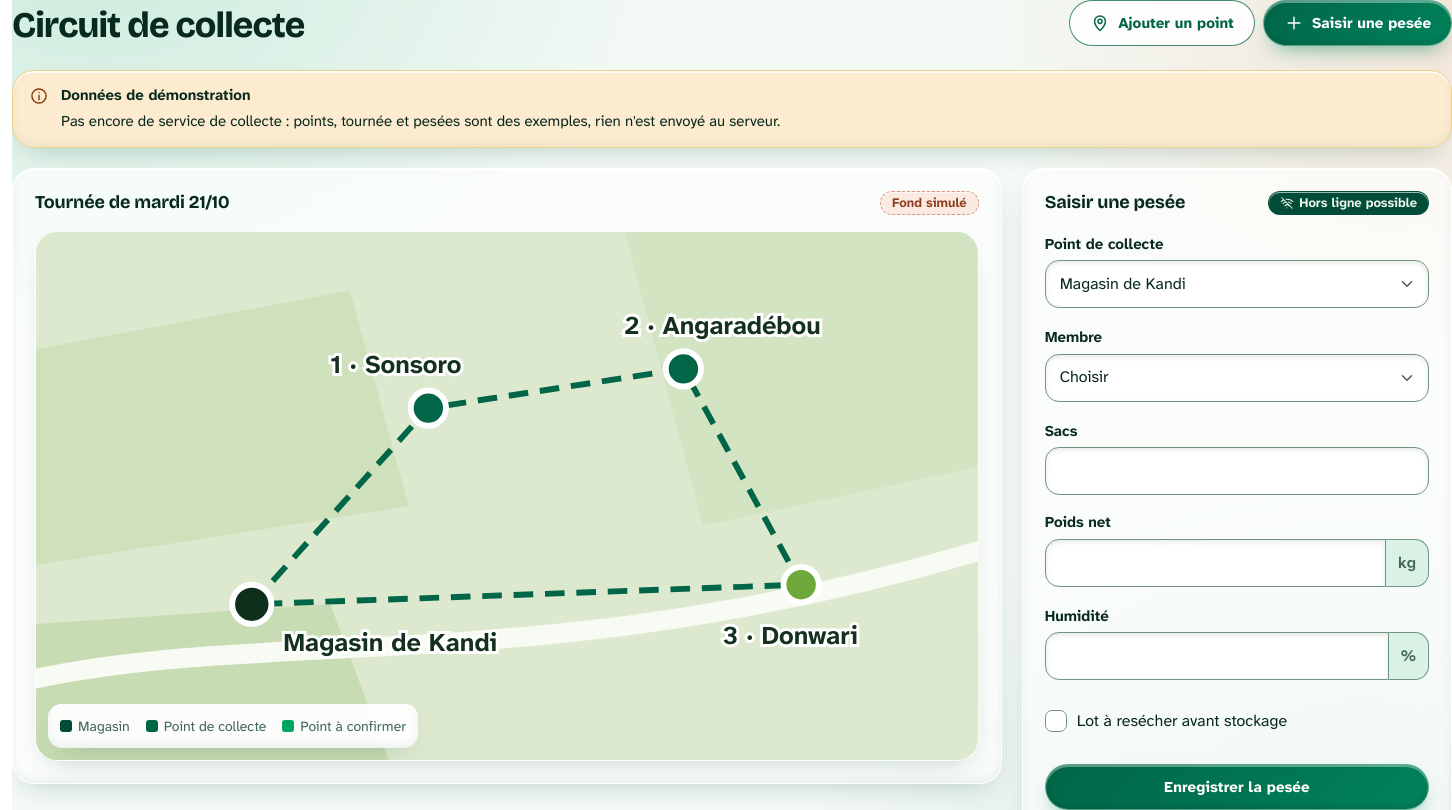
Test: Collecte › page /collecte : une pesée valide est gardée et annoncée en attente
Expected: the heading "Circuit de collecte" is shown, [12,4,304,47]
Select "Bio Gounou · ALI-KAN-01187" in the dropdown labelled "Membre" at coordinates (1237, 378), box [1045,354,1429,402]
Type "12" into the field labelled "Sacs".
click(1237, 471); type("12")  # box [1045,447,1429,495]
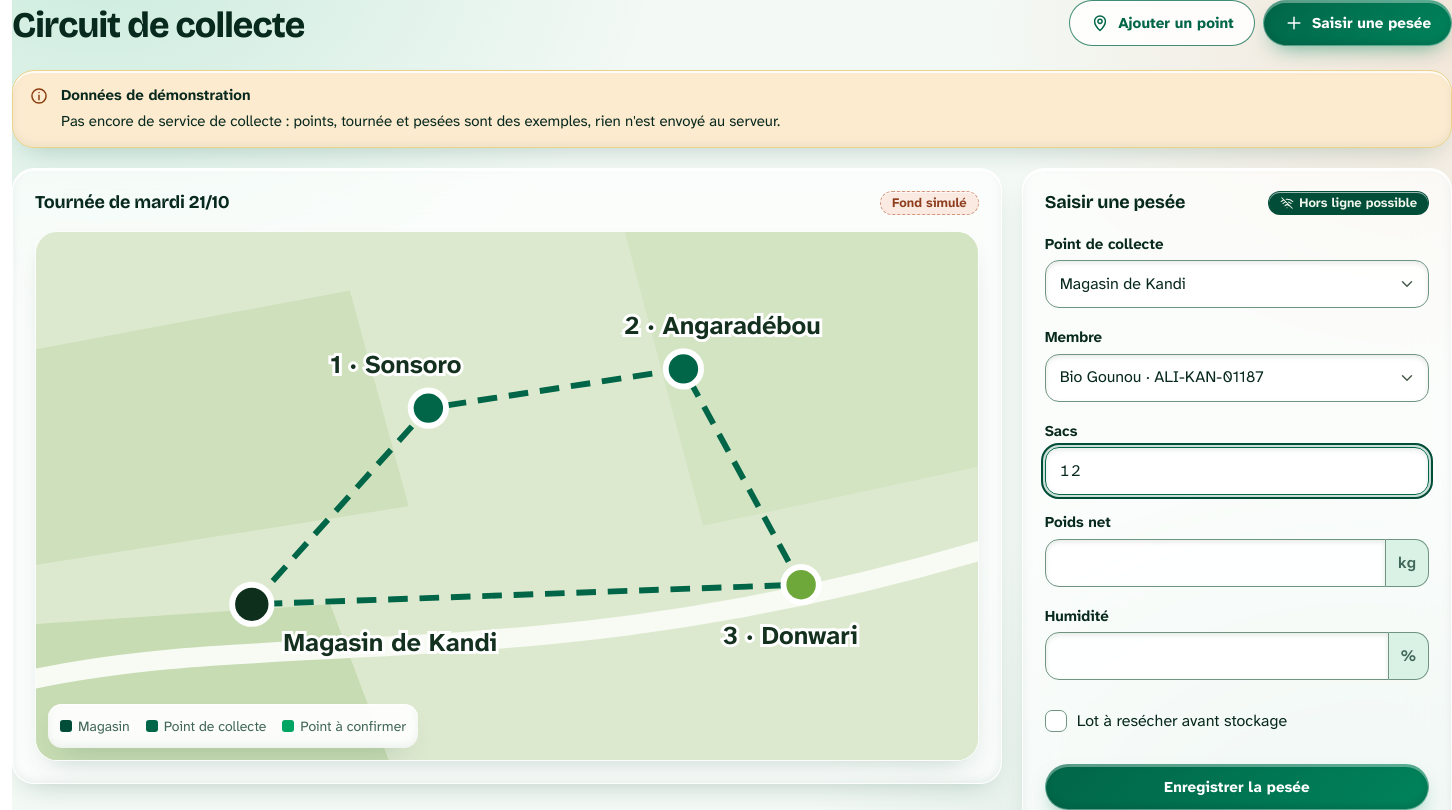
Type "1180" into the field labelled "Poids net".
click(1215, 562); type("1180")  # box [1045,538,1386,586]
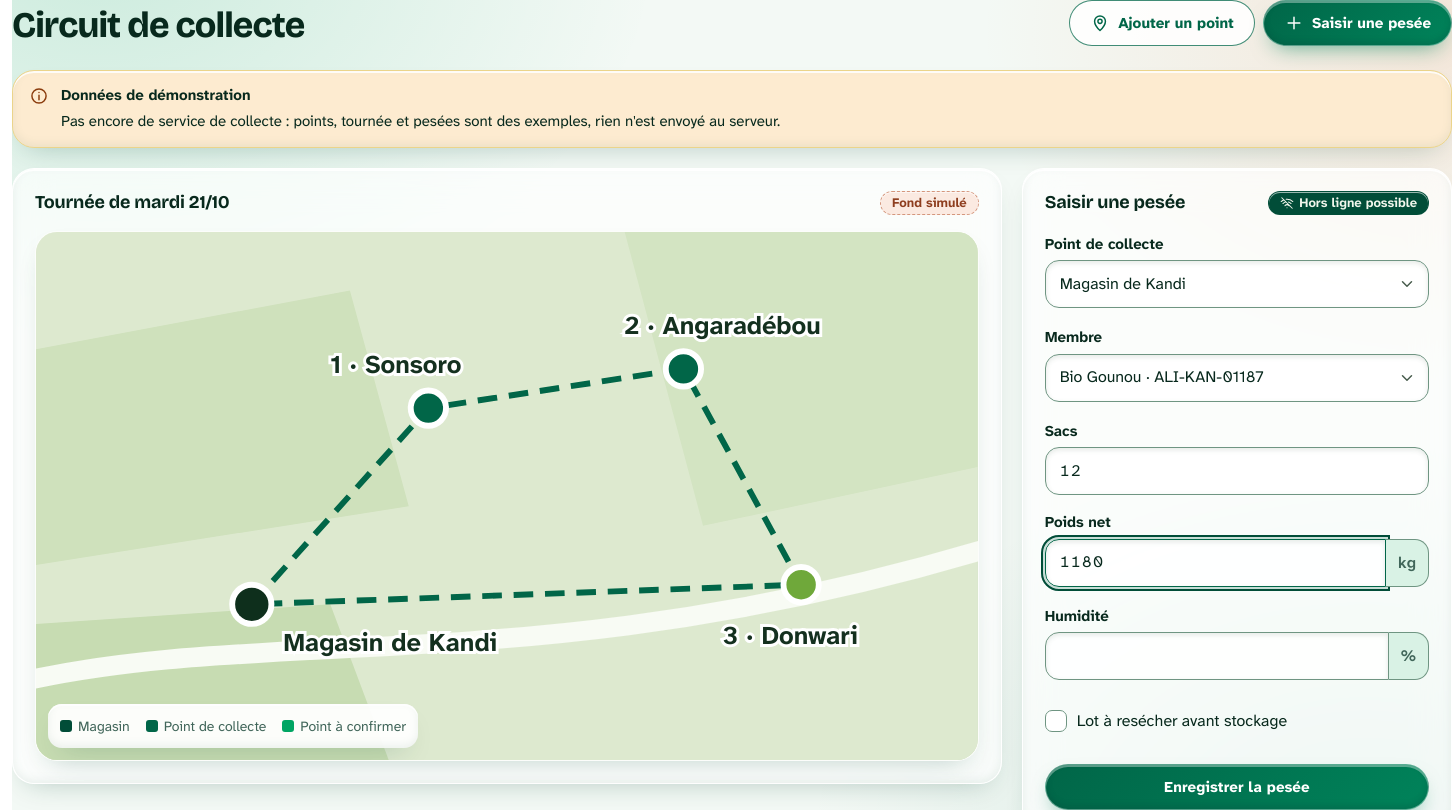
Type "16,5" into the field labelled "Humidité".
click(1217, 656); type("16,5")  # box [1045,632,1389,680]
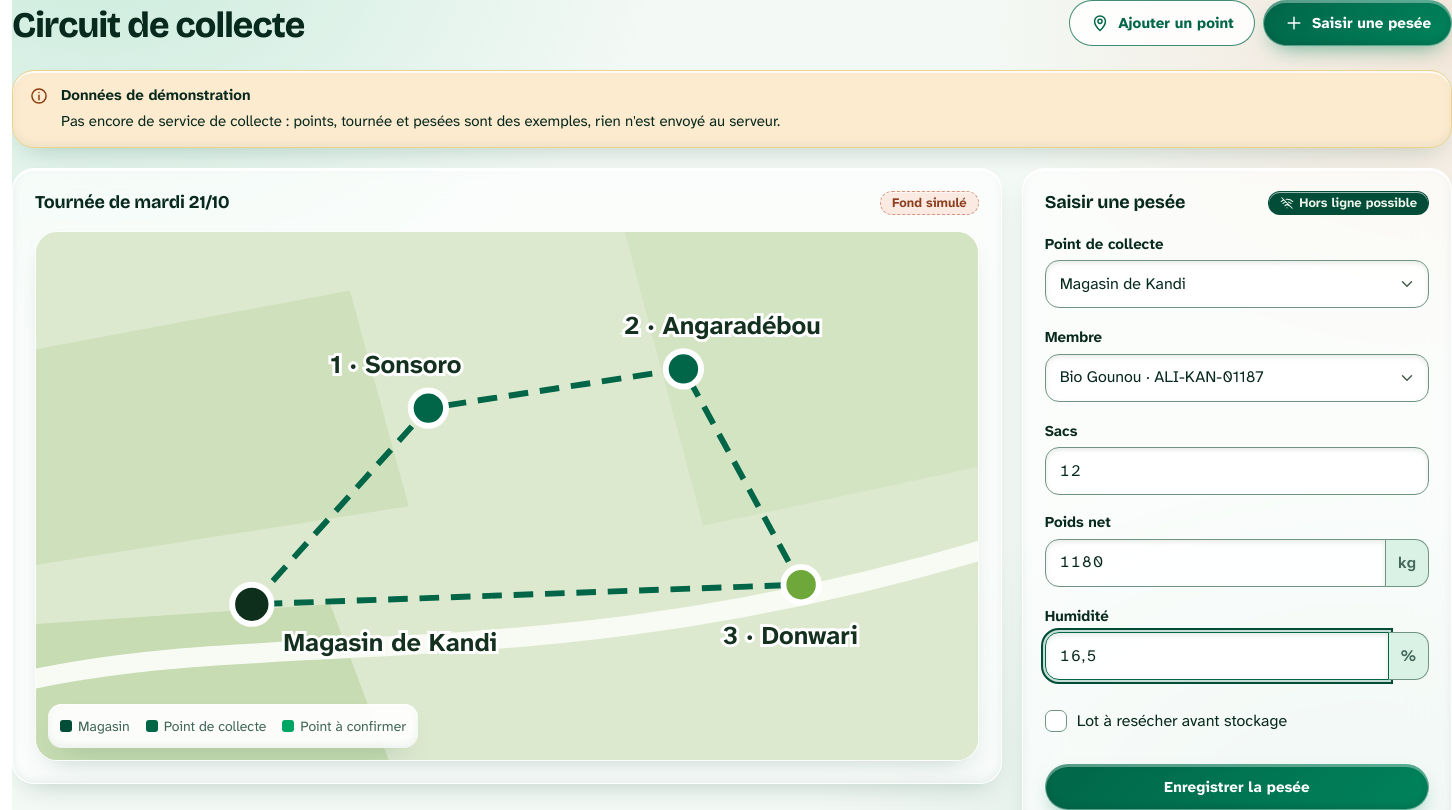
Click the button "Enregistrer la pesée".
click(1237, 787)  # box [1045,764,1429,809]
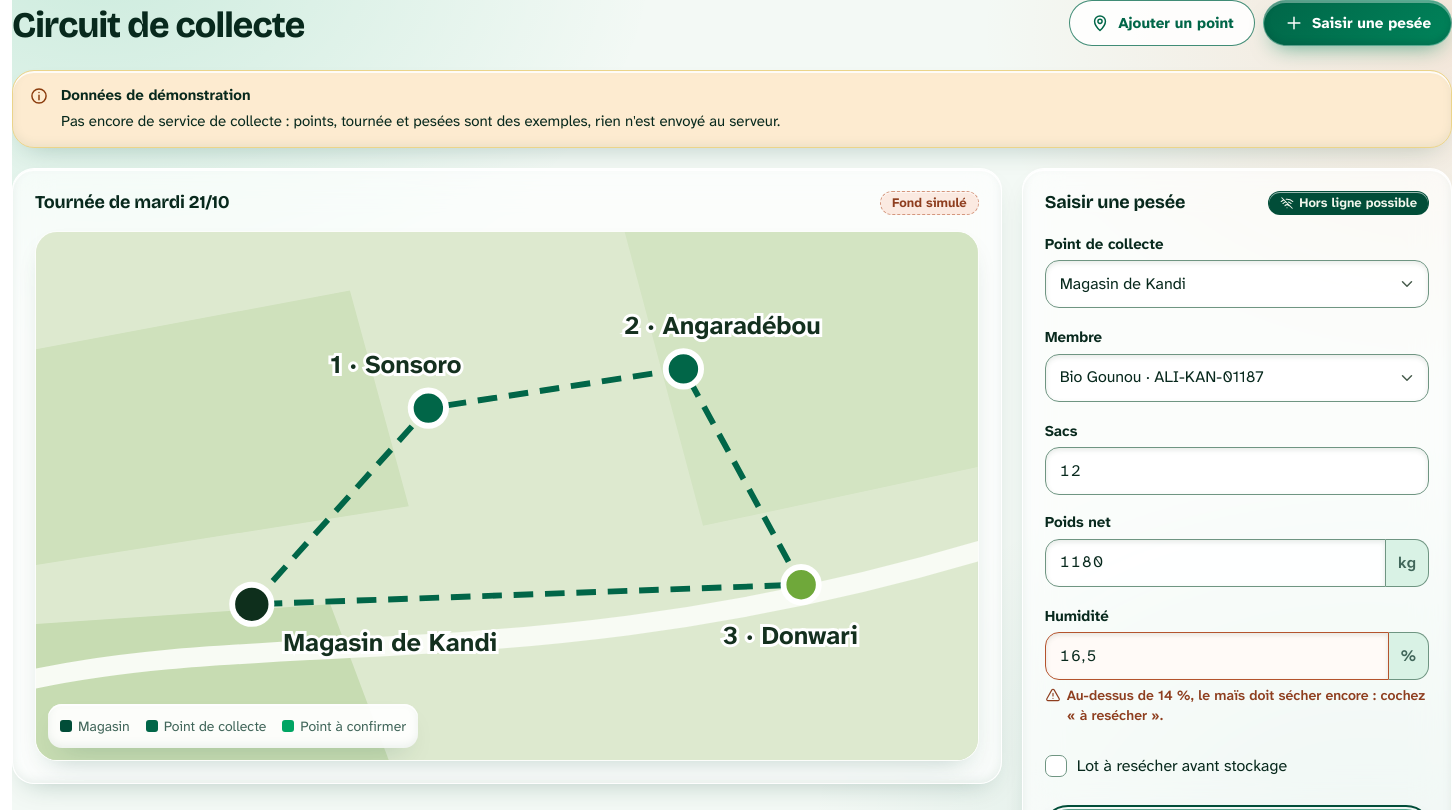
Now the text "Au-dessus de 14 %, le maïs doit sécher encore : cochez « à resécher »." is shown, box [1045,686,1429,725]
Click the checkbox labelled "Lot à resécher avant stockage".
click(1056, 766)  # box [1045,755,1067,777]
(page scrolled)
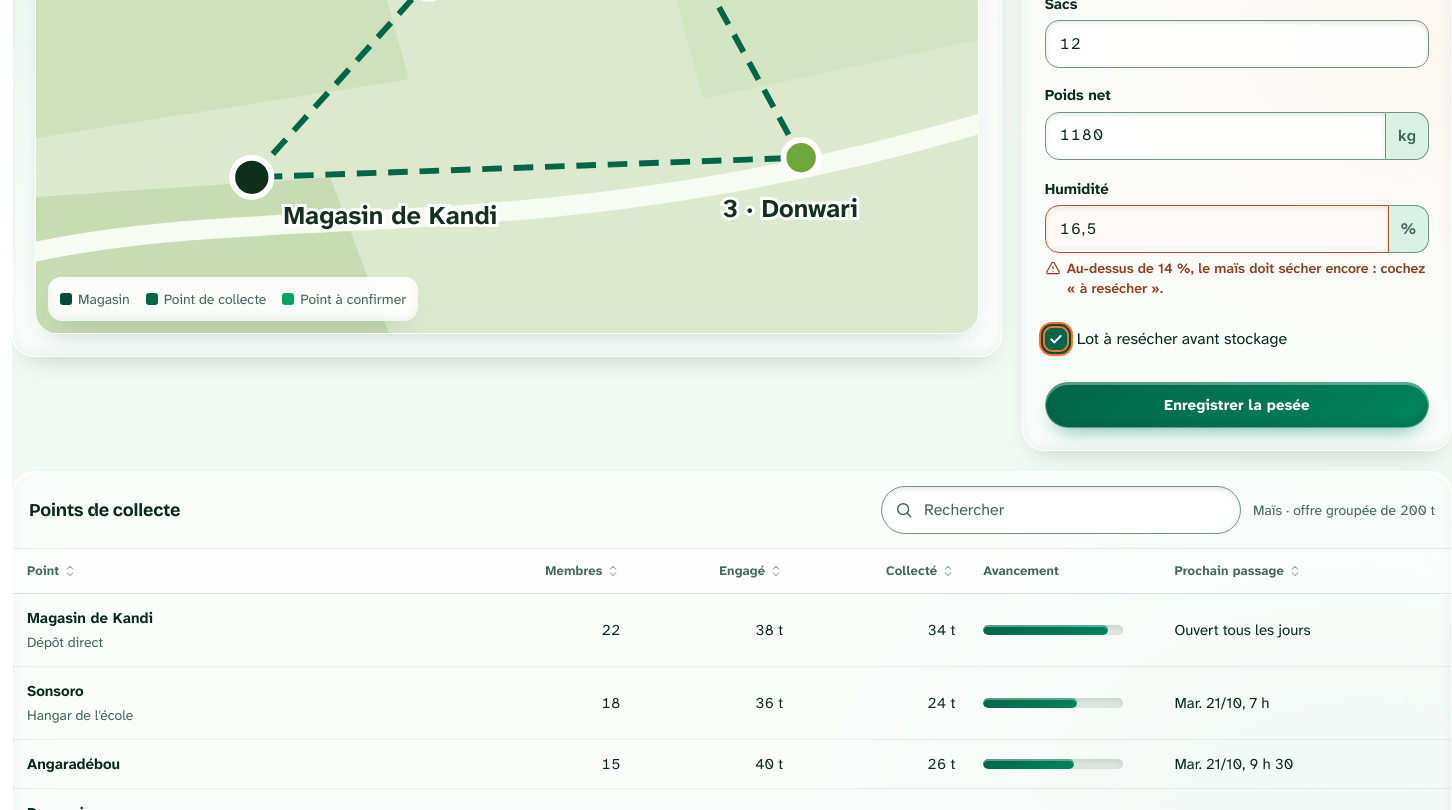
Click the button "Enregistrer la pesée".
click(1237, 405)  # box [1045,382,1429,428]
(page scrolled)
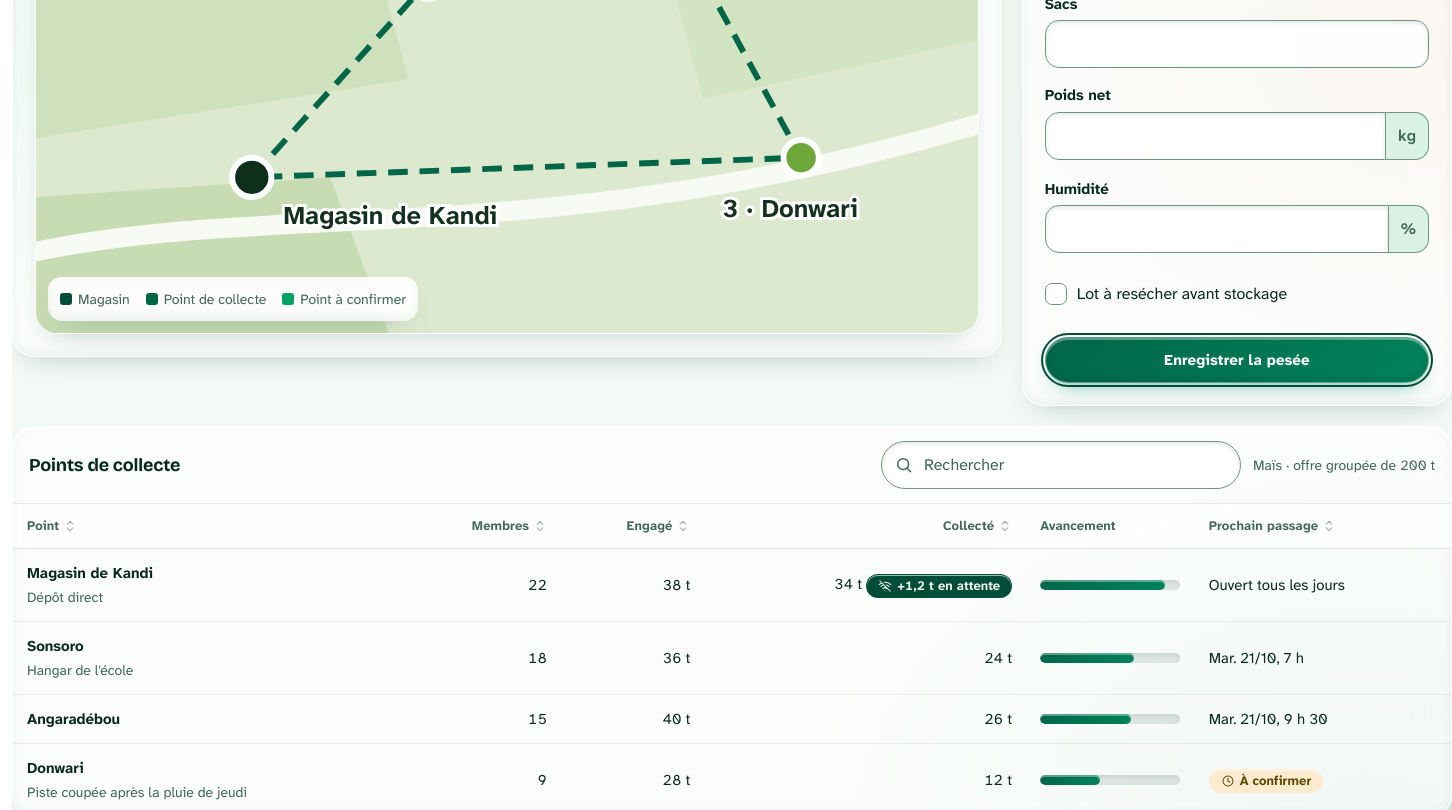
Now the text "+1,2 t en attente" is shown, box [866,574,1012,598]
